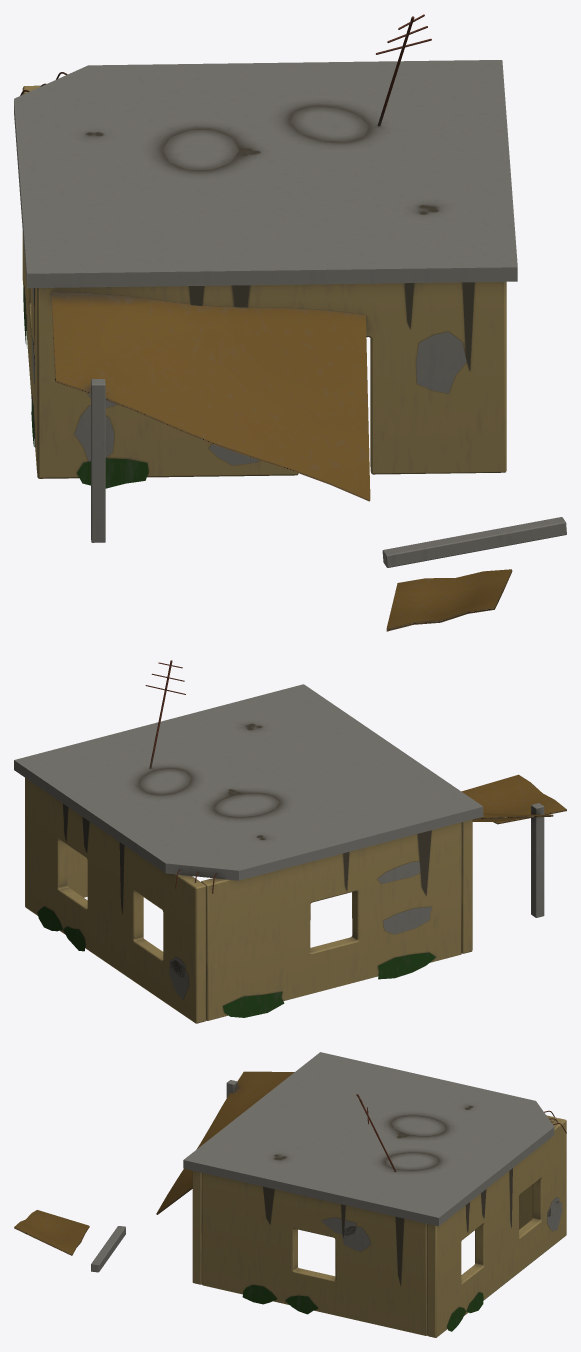
Rendered from casa_e.glb.
The picture shows the model from 3 angles, top to bottom: view 1: azimuth 30°, elevation 25°; view 2: azimuth 150°, elevation 25°; view 3: azimuth 270°, elevation 25°; orthographic projection. The views are drawn at different scales.
Visible parts, largest first — view 1: g_casa_e; view 2: g_casa_e; view 3: g_casa_e.
Boxes of the visible parts, left/top/right/bottom form: g_casa_e: left=14, top=14, right=566, bottom=631; g_casa_e: left=14, top=660, right=566, bottom=1023; g_casa_e: left=14, top=1052, right=566, bottom=1337.
Bounding box in the file's own units: 9.78 × 5.39 × 12.97.
1 material, 1 textured.
